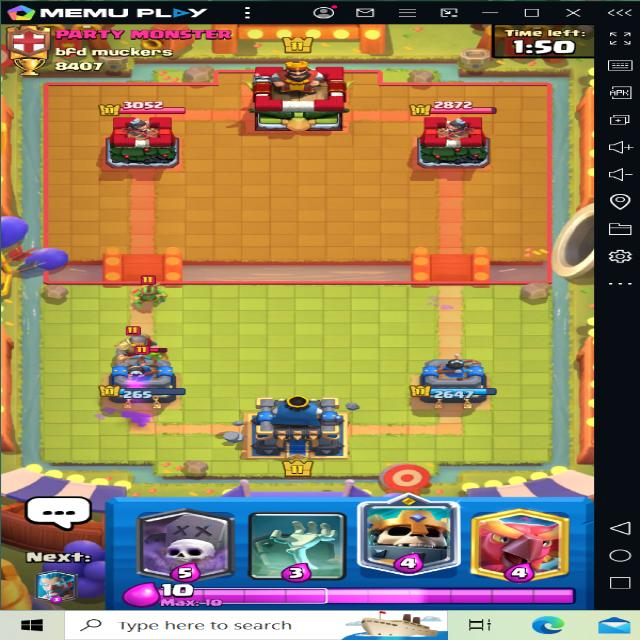goblin: (127, 343, 171, 369)
knight: (102, 319, 164, 359)
spear-goblin: (122, 274, 177, 308)
